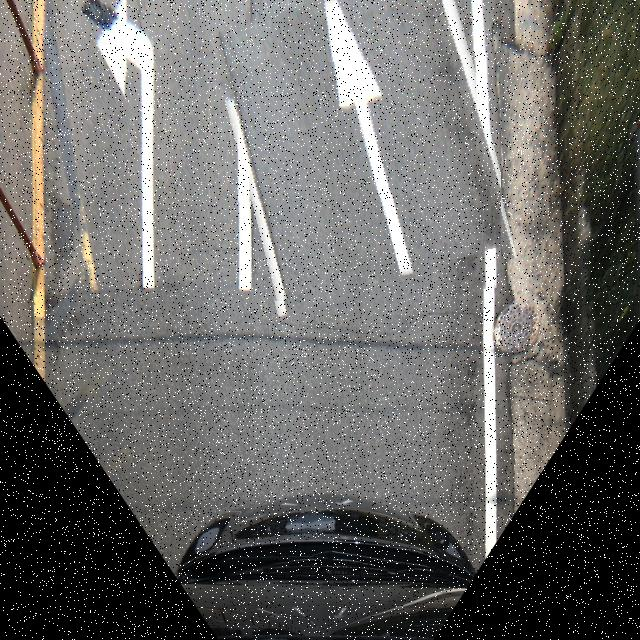forward: (223, 0, 501, 304)
